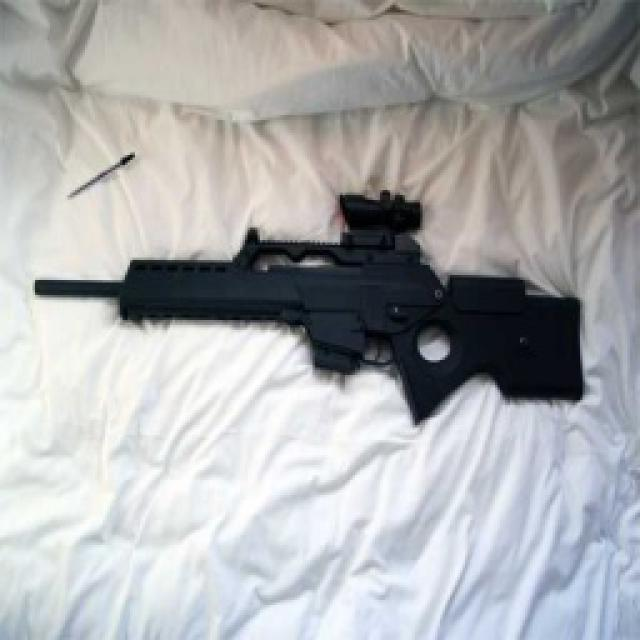long weapon: (31, 199, 596, 424)
